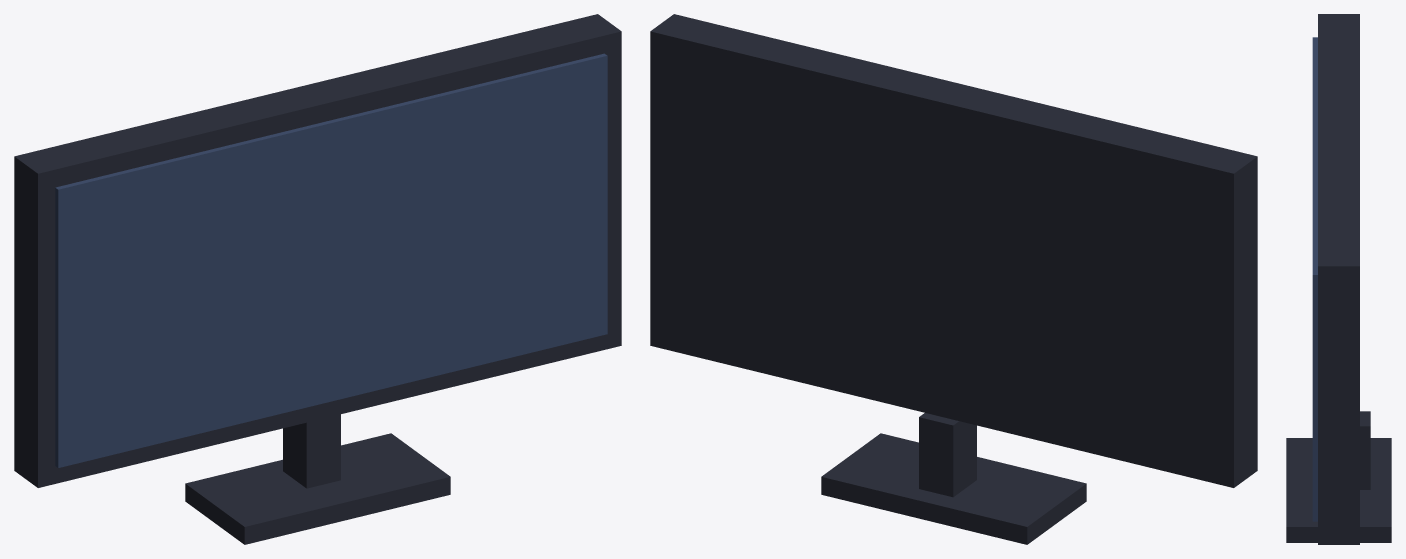
Rendered from televisionModern.glb.
3 renders of one model, left to right at view 1: azimuth 30°, elevation 25°; view 2: azimuth 150°, elevation 25°; view 3: azimuth 270°, elevation 25°, orthographic. The views are drawn at different scales.
Visible parts, largest first — view 1: televisionModern; view 2: televisionModern; view 3: televisionModern.
Part boxes in pixels (<box>): televisionModern: <box>14,14,621,544</box>; televisionModern: <box>650,14,1257,544</box>; televisionModern: <box>1286,14,1391,544</box>.
Size of the model in its own units: 0.68 by 0.45 by 0.12.
Materials: 1 (1 with a texture image).
